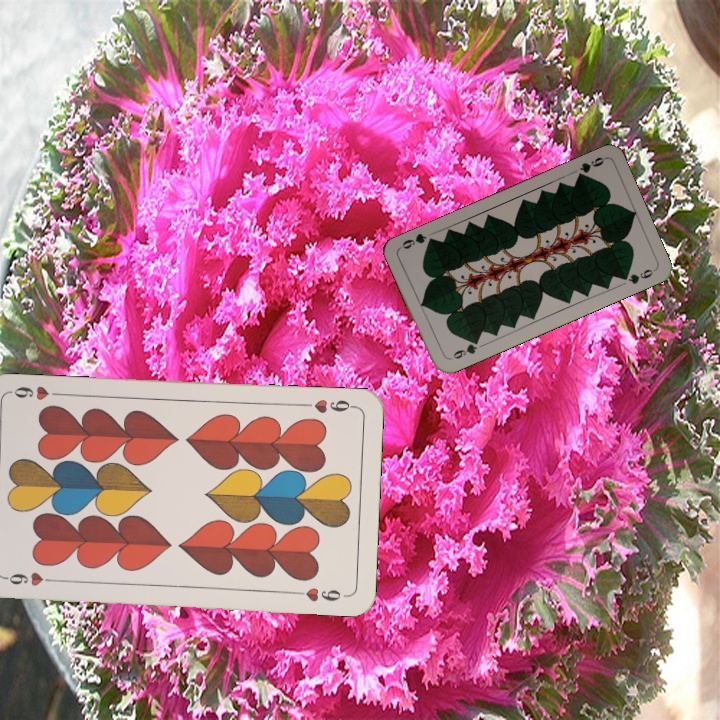G9: (572, 153, 608, 182), (445, 336, 481, 363)
H9: (298, 395, 358, 416), (1, 568, 60, 588)
